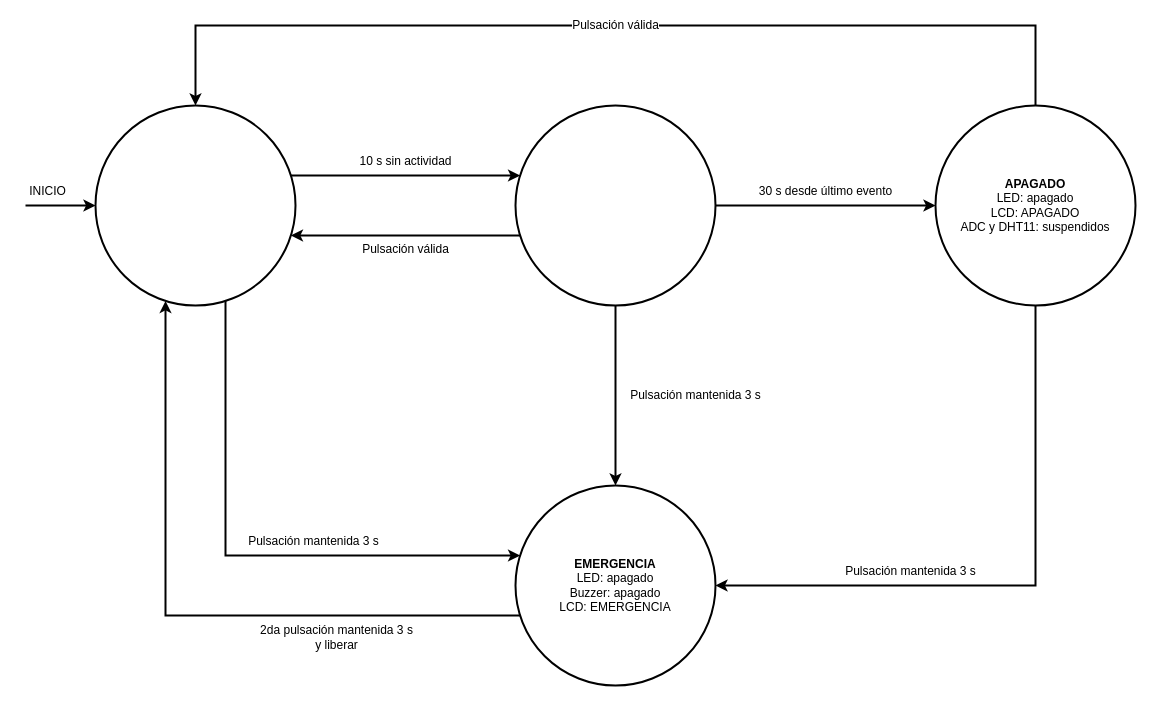
Image size: 1153x703. Some labels were removed from this diagram. The shapes that lost their labels are listed below. From the top down, each one's centre as x and y in pixels, then its label:
the point at 195,205: ACTIVO LED: parpadea Buzzer: pitido al pulsar ADC y DHT11: lecturas LCD: datos
the point at 615,205: STANDBY LED: apagado LCD: Esperando...
